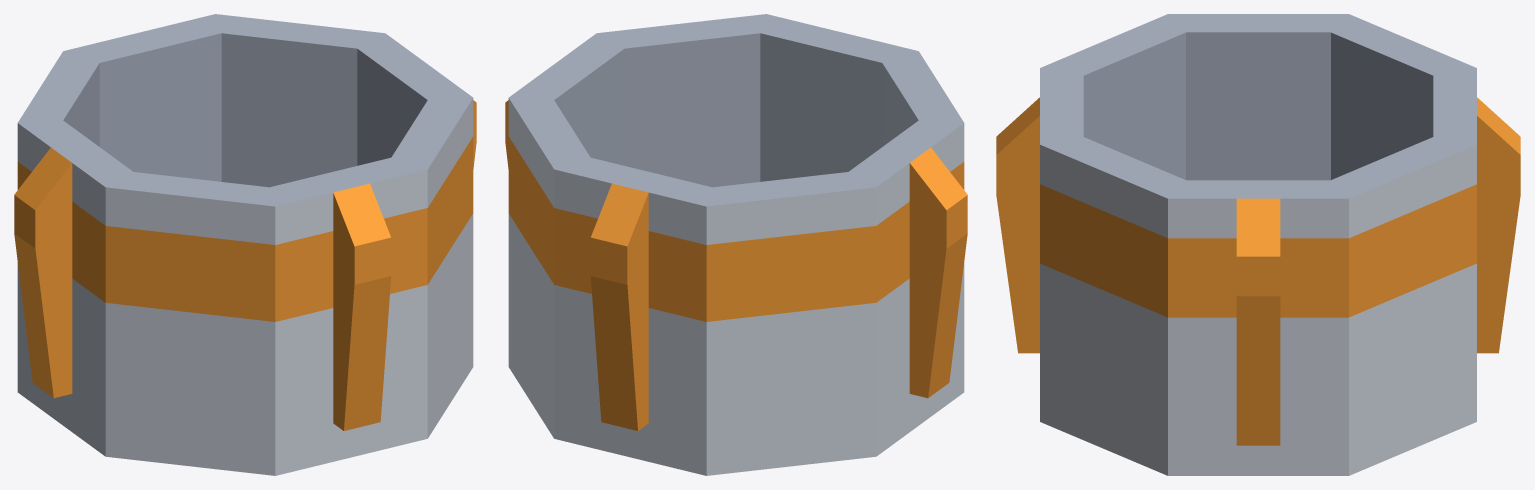
The model's file is rocket_finsB.glb.
3 views of the same model, side by side, from view 1: azimuth 30°, elevation 25°; view 2: azimuth 150°, elevation 25°; view 3: azimuth 270°, elevation 25° (orthographic). The views are drawn at different scales.
Parts seen in each view (by area): view 1: rocket_finsB; view 2: rocket_finsB; view 3: rocket_finsB.
Boxes of the visible parts, x1,y1,x2,y2 form: rocket_finsB: (14,14,476,475); rocket_finsB: (505,14,967,475); rocket_finsB: (996,14,1520,475).
Bounding box in the file's own units: 1.2 × 0.7 × 1.2.
